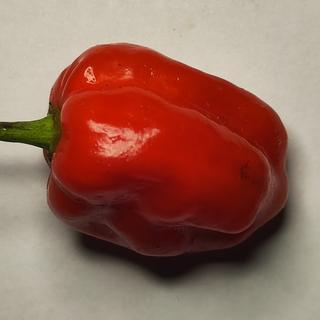Grade-A: (36, 28, 289, 254)
